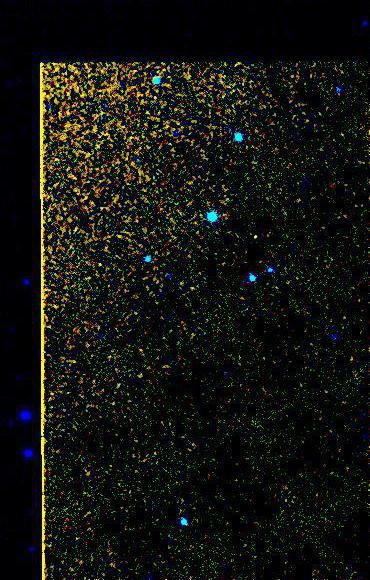star: (241, 221, 271, 251)
